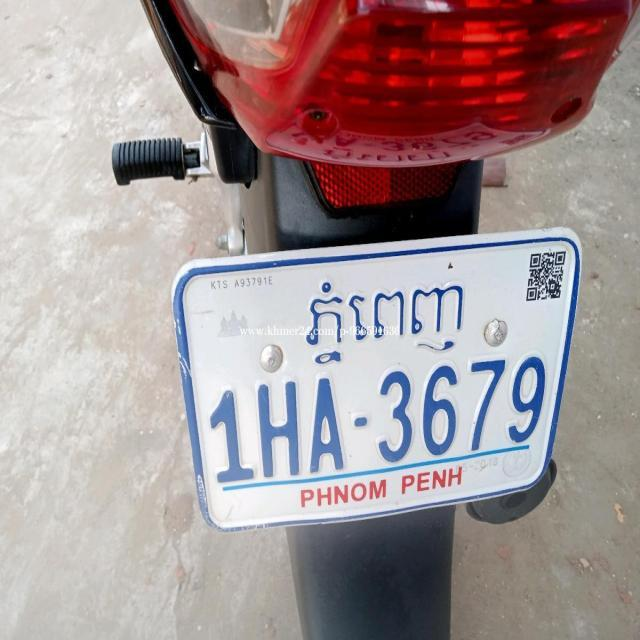Phnom_Penh: (305, 278, 464, 369)
